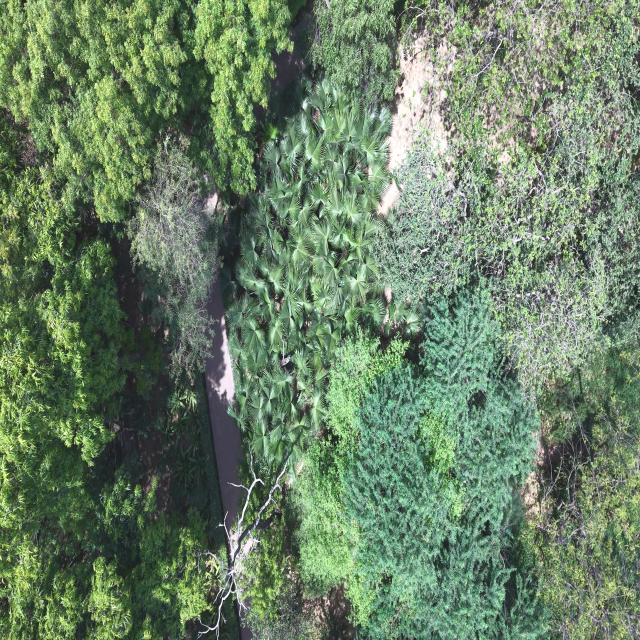DRY_AREA: (204, 280, 242, 524), (204, 280, 242, 523), (204, 280, 242, 522), (204, 281, 242, 522), (388, 38, 445, 170)
VEGETATION_TREE: (0, 0, 639, 639), (228, 1, 639, 637), (0, 2, 288, 636), (0, 131, 214, 639), (376, 1, 639, 391), (294, 283, 537, 637), (340, 286, 537, 639), (225, 80, 389, 474), (0, 0, 289, 220), (0, 130, 123, 488), (1, 461, 211, 639), (524, 345, 639, 639), (291, 325, 407, 608), (340, 363, 462, 596), (526, 396, 639, 639), (127, 135, 221, 375), (193, 0, 291, 191), (198, 455, 293, 636), (373, 135, 471, 300), (240, 484, 310, 639), (537, 343, 639, 443), (291, 434, 353, 596), (326, 325, 408, 443), (302, 0, 396, 102), (193, 373, 228, 584), (158, 383, 205, 491), (243, 514, 289, 620), (248, 579, 310, 639)
